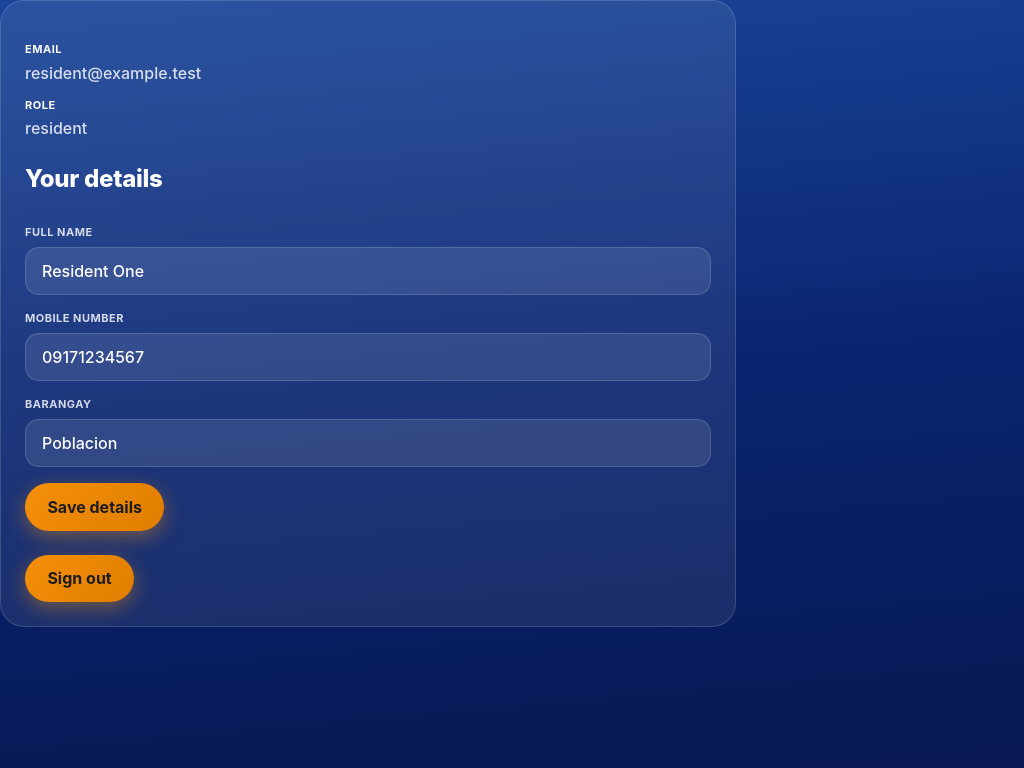
REQ-021: account details › refuses an invalid phone number without saving
Replace the text in the field labelled "Mobile number" with "12345" at (368, 357), box [25, 333, 711, 381]
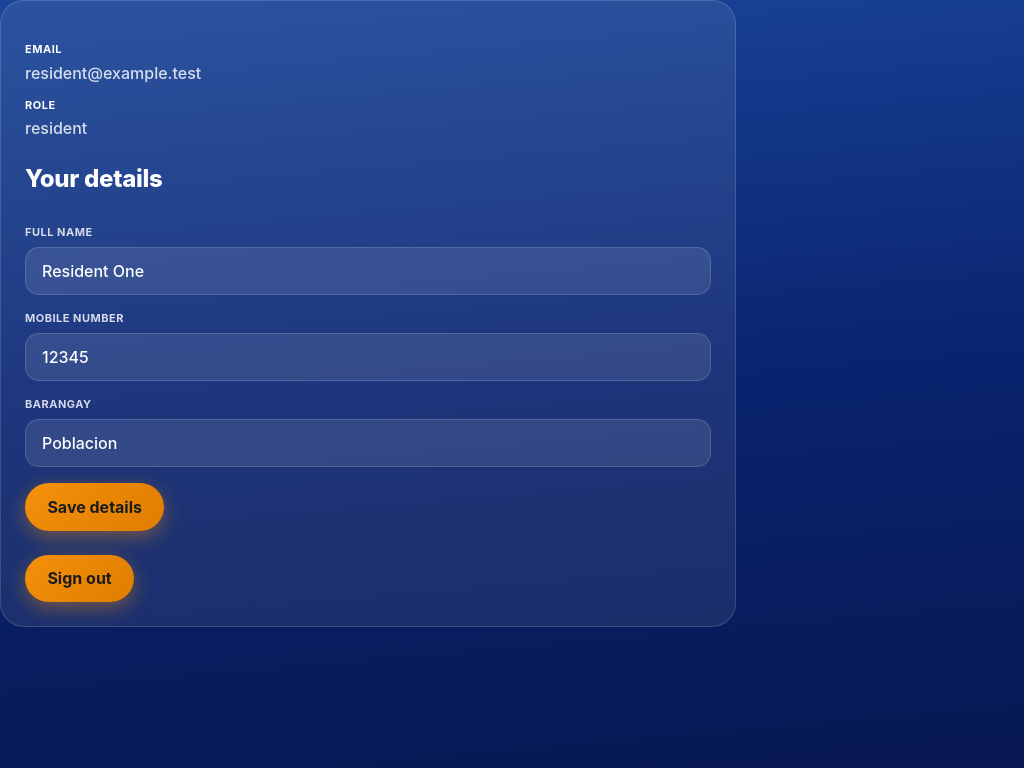
Click the button "Save details" at (95, 507), box [25, 483, 164, 531]
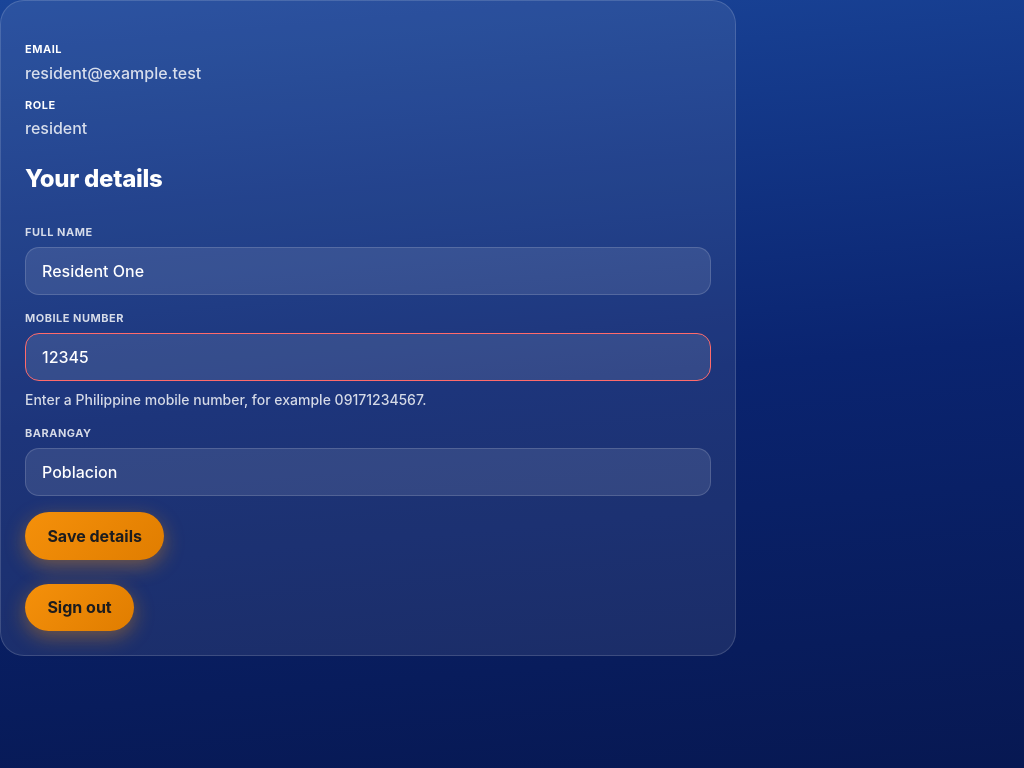
Now the text "Enter a Philippine mobile number, for example 09171234567." is shown, box [25, 391, 426, 408]
